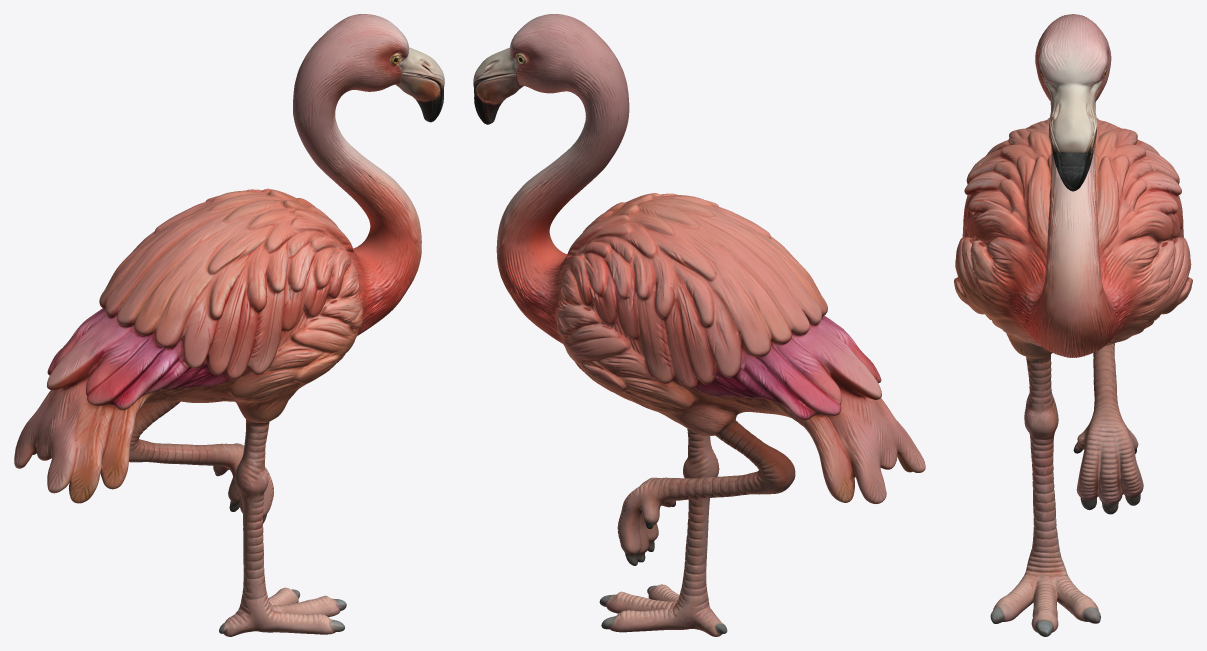
The picture shows the model from 3 angles, left to right: view 1: azimuth 30°, elevation 25°; view 2: azimuth 150°, elevation 25°; view 3: azimuth 270°, elevation 25°; orthographic projection. The views are drawn at different scales.
Visible parts, largest first — view 1: tripo_node_e1cd19e1-fdf7-478c-990d-6433f6f29141; view 2: tripo_node_e1cd19e1-fdf7-478c-990d-6433f6f29141; view 3: tripo_node_e1cd19e1-fdf7-478c-990d-6433f6f29141.
Part boxes in pixels (left/top/right/bottom): tripo_node_e1cd19e1-fdf7-478c-990d-6433f6f29141: left=14, top=14, right=444, bottom=636; tripo_node_e1cd19e1-fdf7-478c-990d-6433f6f29141: left=473, top=14, right=925, bottom=636; tripo_node_e1cd19e1-fdf7-478c-990d-6433f6f29141: left=954, top=14, right=1192, bottom=636.
Size of the model in its own units: 0.7387 by 0.9789 by 0.3352.
Materials: 1 (1 with a texture image).
